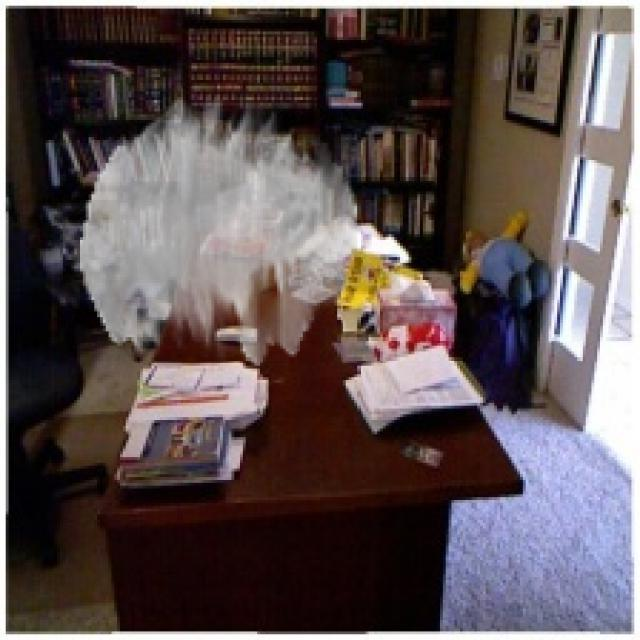Smoke: (80, 94, 357, 366)
